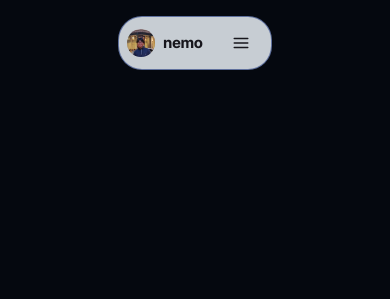
Test: Navbar › phone menu: the close button replaces the menu button on the brand row
Click the button named "Open menu" at (241, 43), box [219,21,263,65]
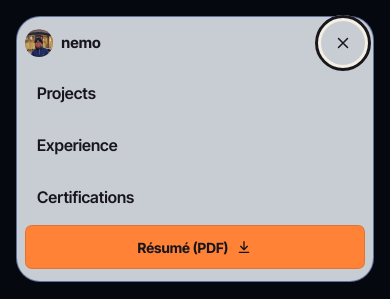
expect the link named "home" is shown: met, box [25,21,112,65]
expect the button named "Close menu" has class "ml-auto": met, box [321,21,365,65]
